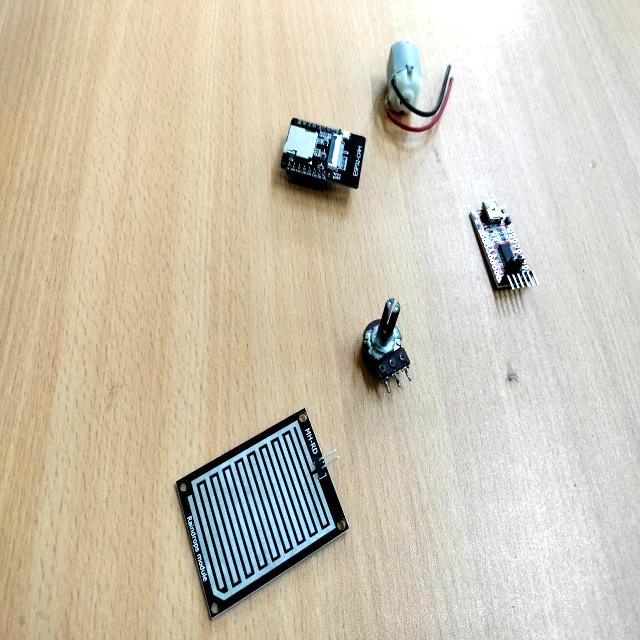DC-Motor: (384, 36, 425, 120)
ESP32-CAM: (277, 113, 369, 195)
FT-232-USB-Serial-Module: (467, 193, 541, 299)
Raindrops-Module: (175, 402, 354, 626)
Taper-Potentiometer: (361, 293, 415, 392)
